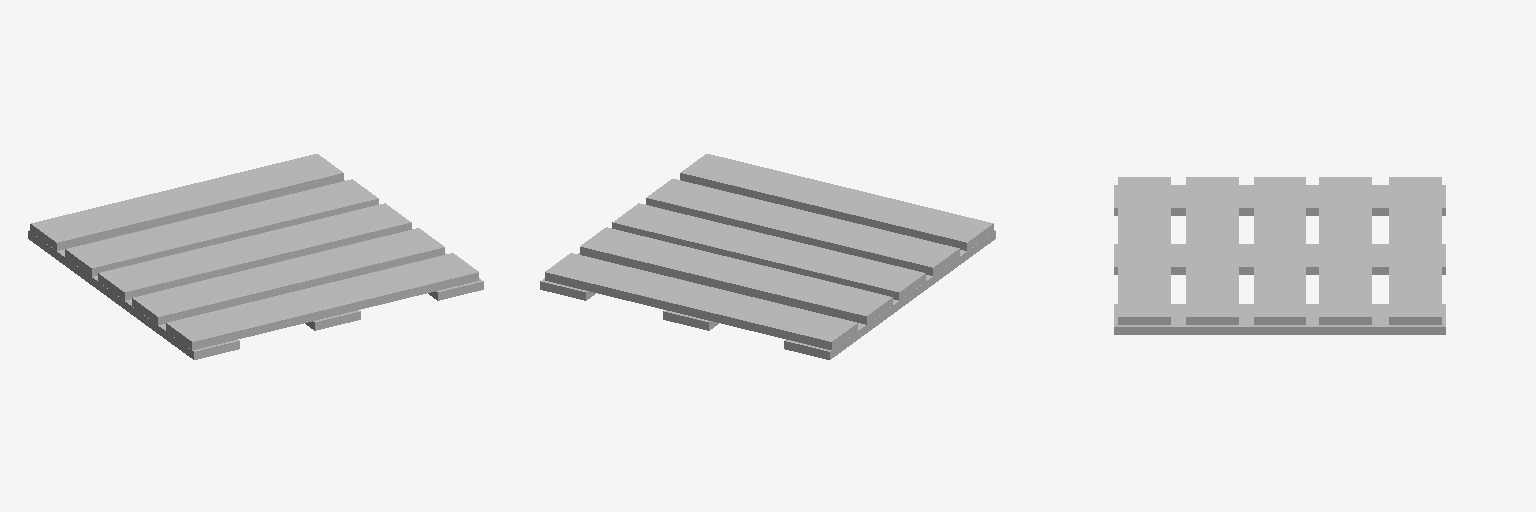
The model's file is palett.obj.
3 views of the same model, side by side, from view 1: azimuth 30°, elevation 25°; view 2: azimuth 150°, elevation 25°; view 3: azimuth 270°, elevation 25° (orthographic).
Visible parts, largest first — view 1: cube13; view 2: cube13; view 3: cube13.
Boxes of the visible parts, x1=… form: cube13: x1=28, y1=154, x2=483, y2=359; cube13: x1=540, y1=154, x2=995, y2=359; cube13: x1=1114, y1=177, x2=1445, y2=334.
Bounding box in the file's own units: 724 × 40.47 × 718.